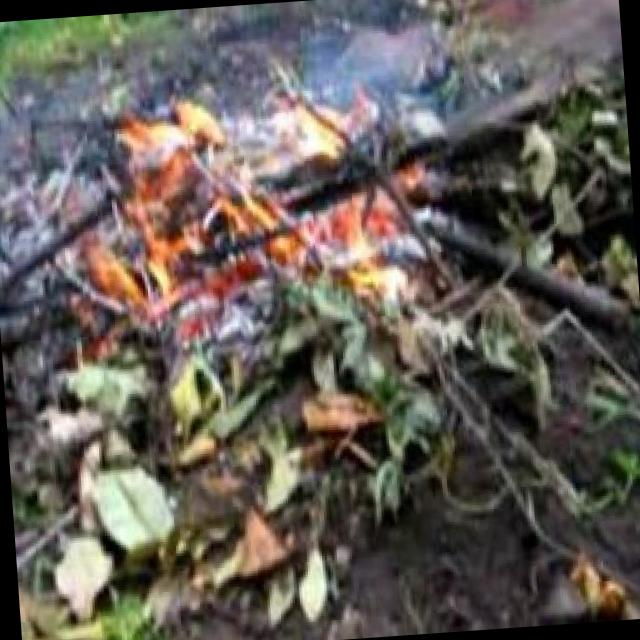Fire: (59, 96, 412, 318), (59, 96, 412, 318)
